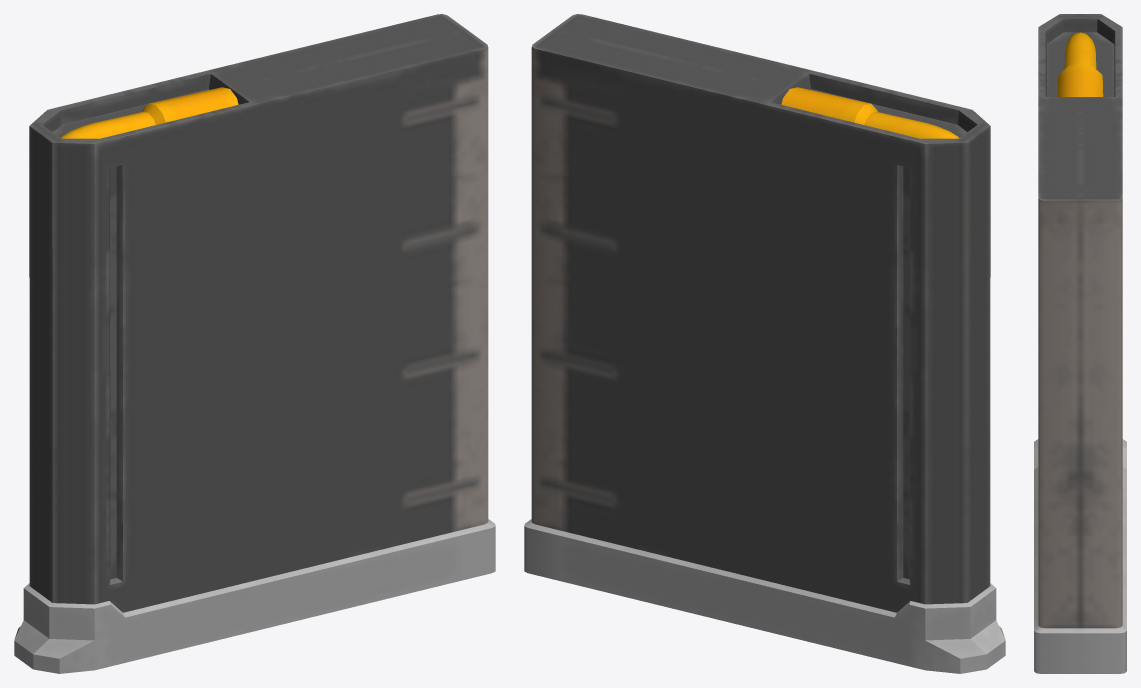
The model's file is gun_sniper_ammo.glb.
3 renders of one model, left to right at view 1: azimuth 30°, elevation 25°; view 2: azimuth 150°, elevation 25°; view 3: azimuth 270°, elevation 25°, orthographic. The views are drawn at different scales.
Parts seen in each view (by area): view 1: Gun_Sniper_Ammo; view 2: Gun_Sniper_Ammo; view 3: Gun_Sniper_Ammo.
Boxes of the visible parts, box(x1,y1,x2,y2) form: Gun_Sniper_Ammo: box(14, 14, 495, 673); Gun_Sniper_Ammo: box(524, 14, 1005, 673); Gun_Sniper_Ammo: box(1034, 14, 1126, 673).
Bounding box in the file's own units: 0.1384 × 0.1546 × 0.0275.
Materials: 1 (1 with a texture image).
